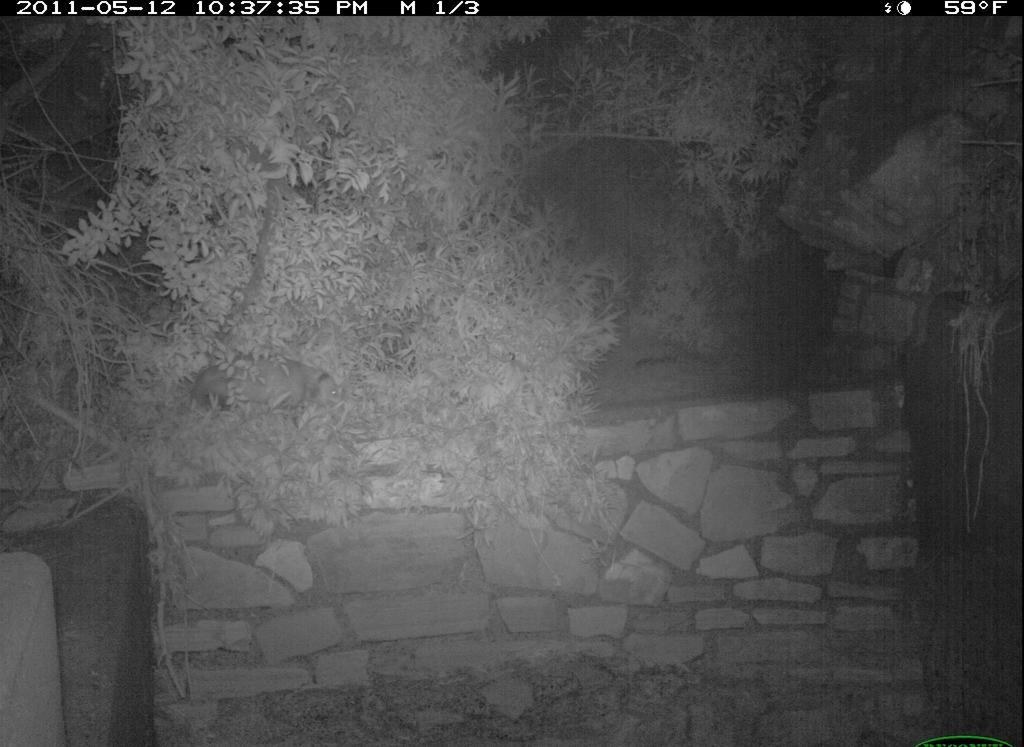opossum: (168, 349, 349, 425)
